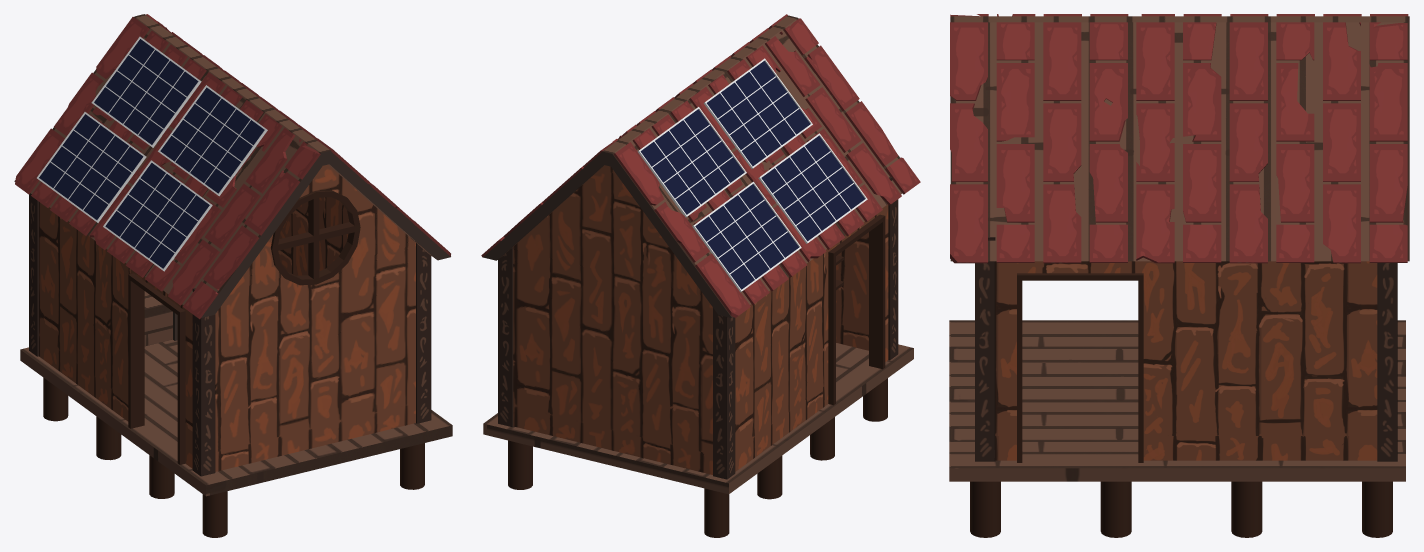
Rendered from Shed.gltf.
3 renders of one model, left to right at view 1: azimuth 30°, elevation 25°; view 2: azimuth 150°, elevation 25°; view 3: azimuth 270°, elevation 25°, orthographic. The views are drawn at different scales.
Parts seen in each view (by area): view 1: ShedBase, ShedSolarPanels, ShedRoof, ShedFoundation, ShedRoofWoodenFoundation, ShedWoodenPilar, ShedFoundationPillar, ShedDoorFrame, ShedRoundWindow, DeskOld; view 2: ShedBase, ShedSolarPanels, ShedRoof, ShedRoofWoodenFoundation, ShedFoundation, ShedWoodenPilar, ShedFoundationPillar, ShedDoorFrame; view 3: ShedRoof, ShedBase, ShedFoundation, ShedRoofWoodenFoundation, ShedWoodenPilar, ShedFoundationPillar, ShedDoorFrame.
Part boxes in pixels (x1,y1,x2,y2): ShedBase: (39, 164, 415, 471); ShedSolarPanels: (37, 36, 267, 271); ShedRoof: (15, 14, 450, 319); ShedFoundation: (20, 339, 452, 496); ShedRoofWoodenFoundation: (14, 14, 450, 317); ShedWoodenPilar: (29, 193, 431, 476); ShedFoundationPillar: (43, 377, 424, 537); ShedDoorFrame: (128, 273, 185, 464); ShedRoundWindow: (271, 190, 360, 285); DeskOld: (144, 291, 172, 346); ShedBase: (513, 165, 888, 474); ShedSolarPanels: (637, 58, 867, 292); ShedRoof: (481, 14, 920, 317); ShedRoofWoodenFoundation: (483, 15, 902, 317); ShedFoundation: (483, 343, 913, 494); ShedWoodenPilar: (498, 177, 898, 479); ShedFoundationPillar: (508, 378, 887, 537); ShedDoorFrame: (828, 214, 885, 405); ShedRoof: (950, 14, 1408, 263); ShedBase: (995, 261, 1377, 460); ShedFoundation: (949, 320, 1405, 481); ShedRoofWoodenFoundation: (950, 16, 1409, 261); ShedWoodenPilar: (975, 237, 1397, 461); ShedFoundationPillar: (970, 481, 1392, 537); ShedDoorFrame: (1017, 273, 1143, 462).
Size of the model in its own units: 3.95 by 5.43 by 5.
9 materials, 4 textured.
